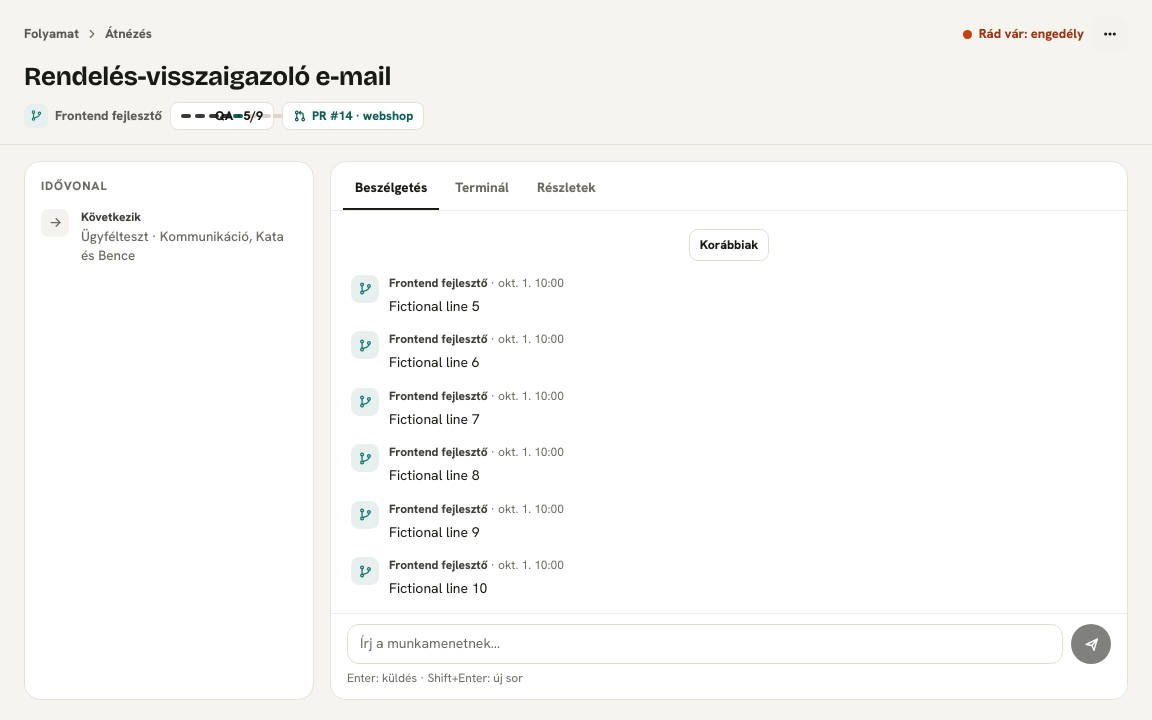
a long chat (PM-1116) › shows the last items and loads the older ones on request
Expected: the text "Fictional line 4" is not shown
Click the button "Korábbiak": (729,245) left=689, top=229, right=769, bottom=261
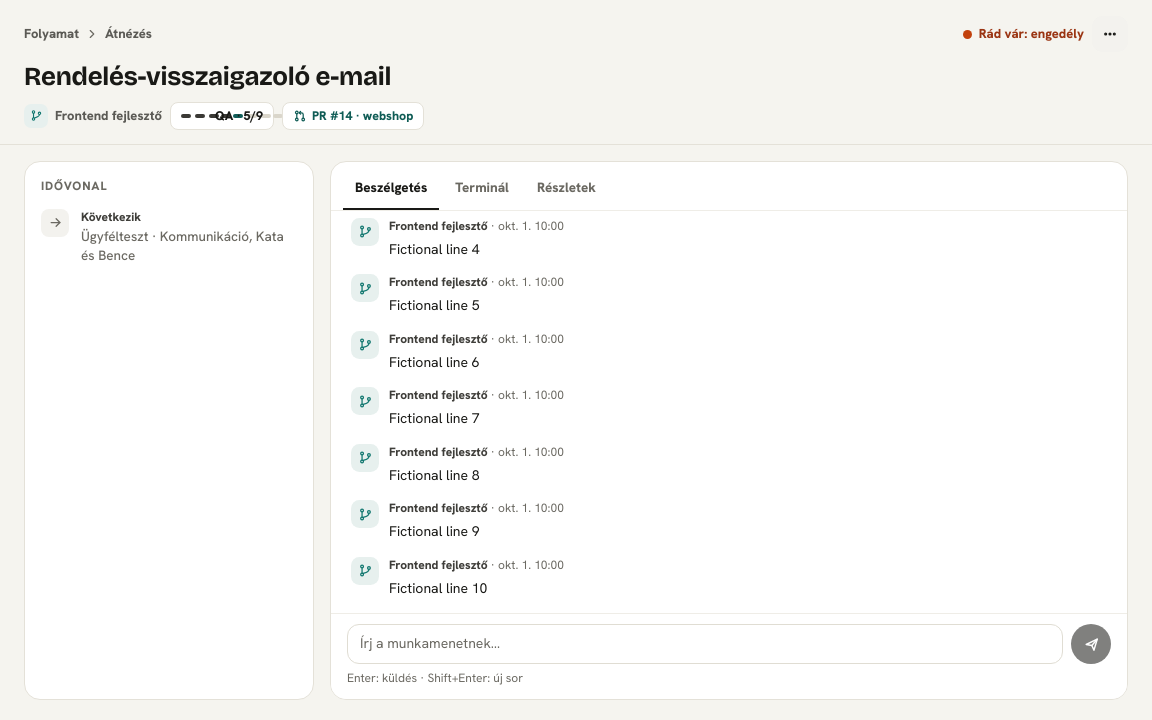
Now the text "Fictional line 4" is shown, box left=389, top=240, right=480, bottom=258
Now the button "Korábbiak" is gone
